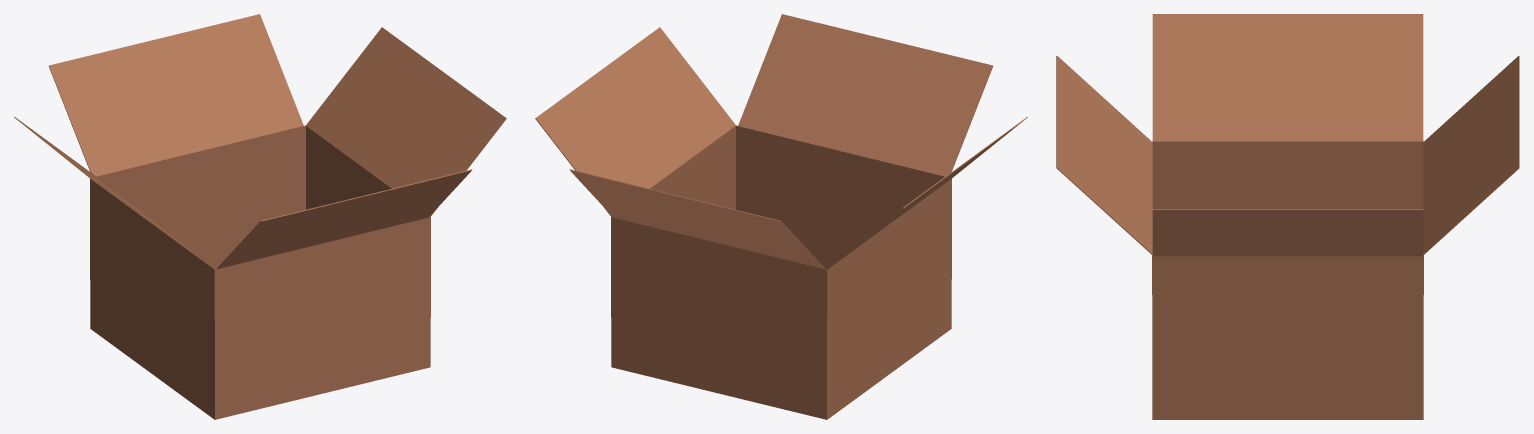
File: Carton Box.fbx
The picture shows the model from 3 angles, left to right: view 1: azimuth 30°, elevation 25°; view 2: azimuth 150°, elevation 25°; view 3: azimuth 270°, elevation 25°; orthographic projection. The views are drawn at different scales.
Visible parts, largest first — view 1: Carton Box; view 2: Carton Box; view 3: Carton Box.
Part boxes in pixels (x1,y1,x2,y2): Carton Box: [14, 14, 506, 419]; Carton Box: [535, 14, 1027, 419]; Carton Box: [1056, 14, 1519, 419].
Size of the model in its own units: 94.78 by 56.69 by 94.78.
